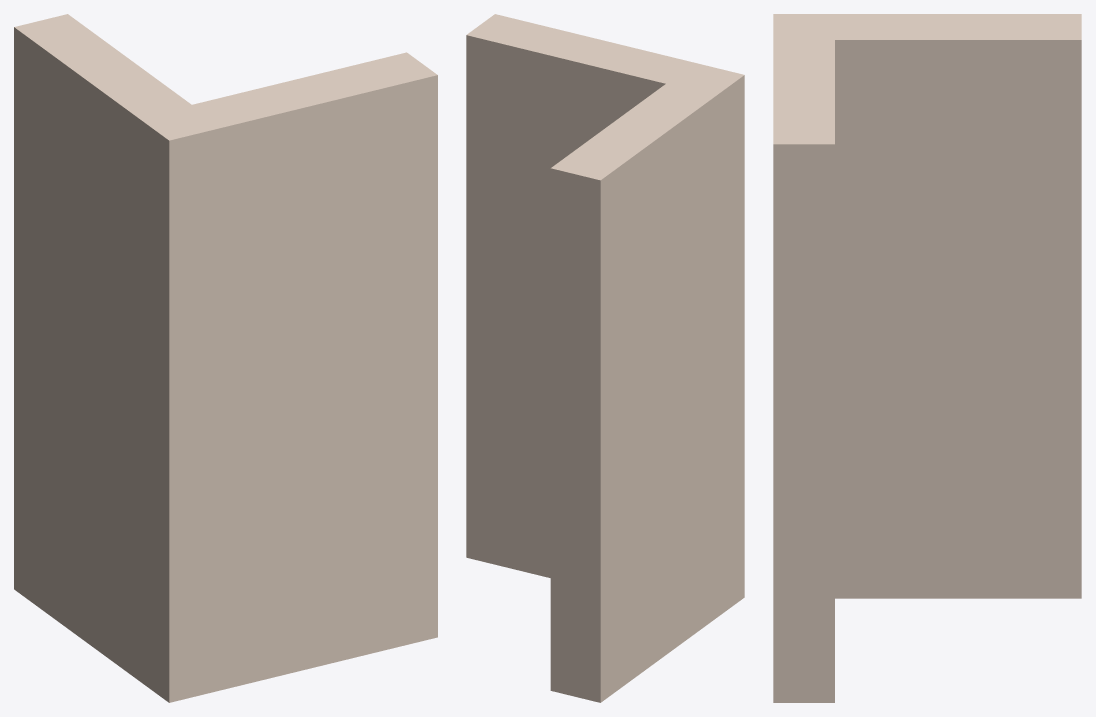
The model's file is corner int.fbx.
3 views of the same model, side by side, from view 1: azimuth 30°, elevation 25°; view 2: azimuth 150°, elevation 25°; view 3: azimuth 270°, elevation 25° (orthographic). The views are drawn at different scales.
Visible parts, largest first — view 1: SketchUp; view 2: SketchUp; view 3: SketchUp.
Boxes of the visible parts, x1=… form: SketchUp: x1=14, y1=14, x2=437, y2=702; SketchUp: x1=466, y1=14, x2=744, y2=702; SketchUp: x1=773, y1=14, x2=1081, y2=702.
Bounding box in the file's own units: 100 × 200 × 100.
